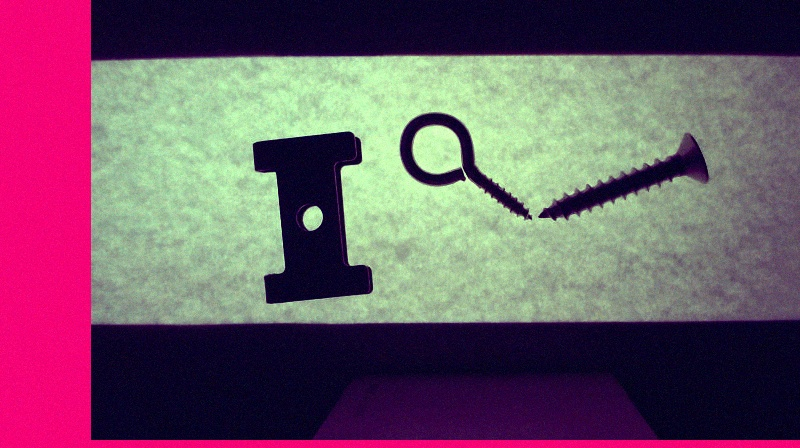O001: (398, 111, 537, 221)
O002: (251, 131, 376, 304)
S001: (538, 130, 712, 219)
